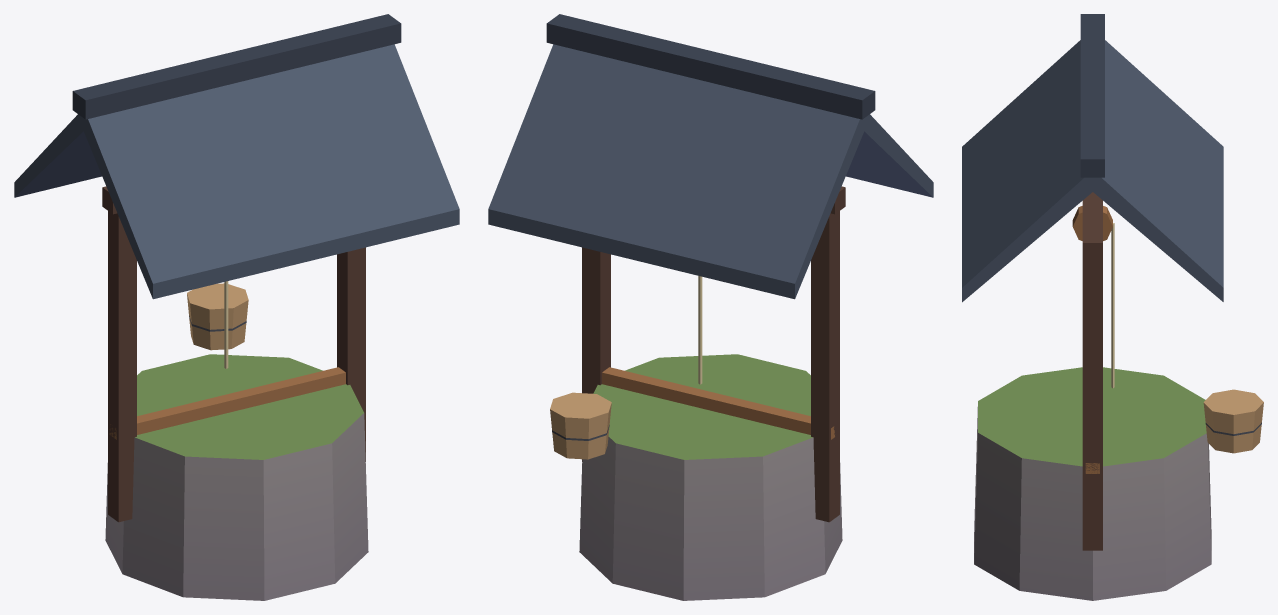
Rendered from water_well.glb.
3 views of the same model, side by side, from view 1: azimuth 30°, elevation 25°; view 2: azimuth 150°, elevation 25°; view 3: azimuth 270°, elevation 25° (orthographic). The views are drawn at different scales.
Visible parts, largest first — view 1: water_well; view 2: water_well; view 3: water_well.
Boxes of the visible parts, box(x1,y1,x2,y2) form: water_well: box(14, 14, 459, 600); water_well: box(488, 14, 933, 600); water_well: box(962, 14, 1263, 600).
Bounding box in the file's own units: 1.71 × 2.53 × 1.5.
